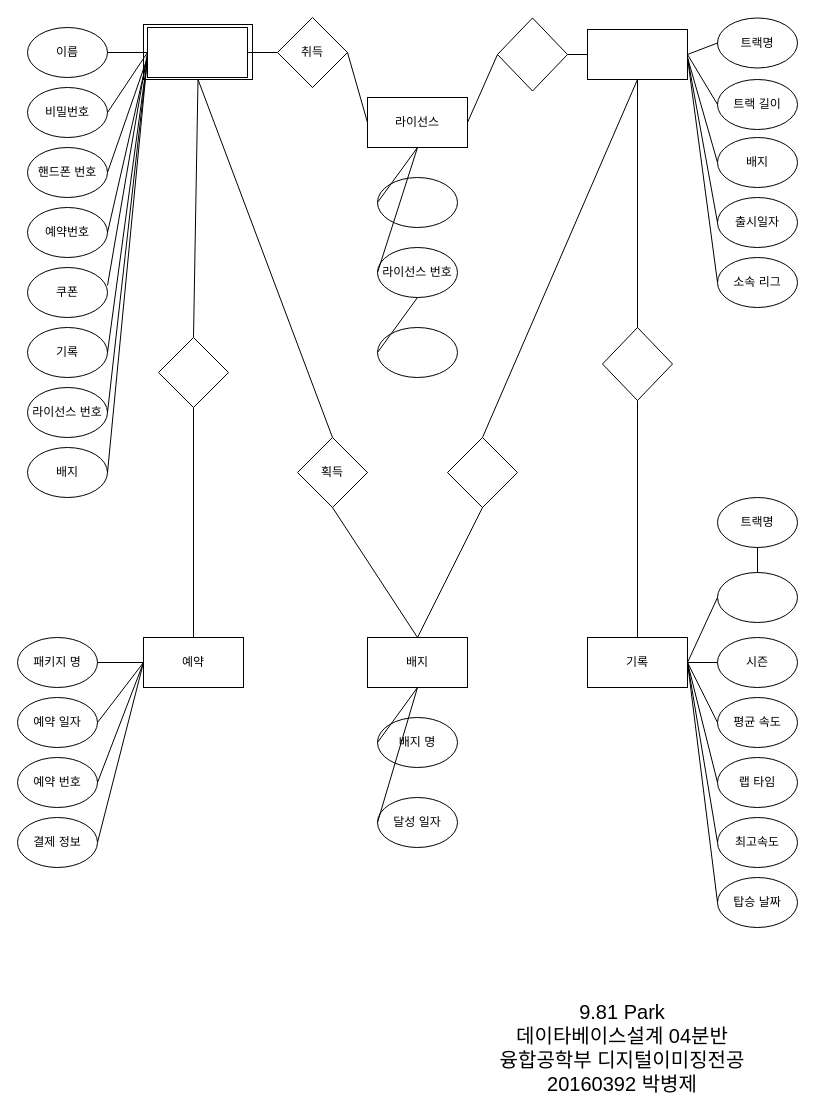
Image size: 815x1115. Some labels were removed from this diagram. The shapes that lost their labels are listed below. From the top down, each one's box as (x1, y1, x2, y2) in pixels, then its label:
(146, 26, 248, 78): 유저
(496, 17, 568, 91): 이용가능
(586, 28, 688, 80): 트랙
(376, 176, 458, 228): 취득일자
(158, 336, 228, 408): 결제, 계약
(376, 326, 458, 378): 라이선스명
(602, 326, 672, 400): 누적
(446, 436, 518, 508): 달성 가능
(716, 572, 798, 622): 리그
